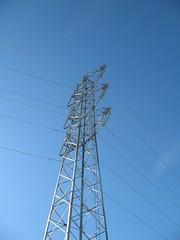power_tower: (42, 60, 112, 240)
